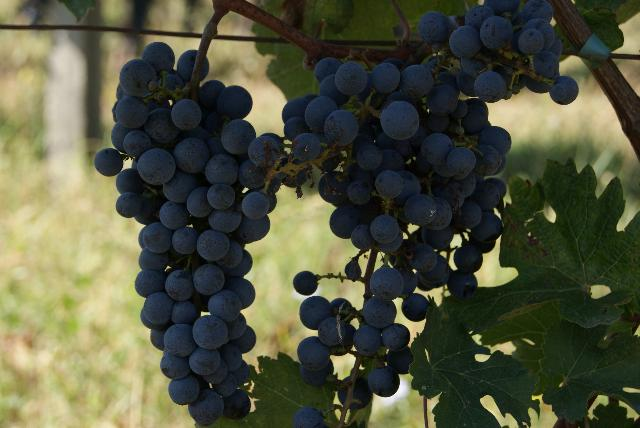grapes: (299, 55, 511, 410), (95, 42, 280, 426), (418, 0, 578, 104)
